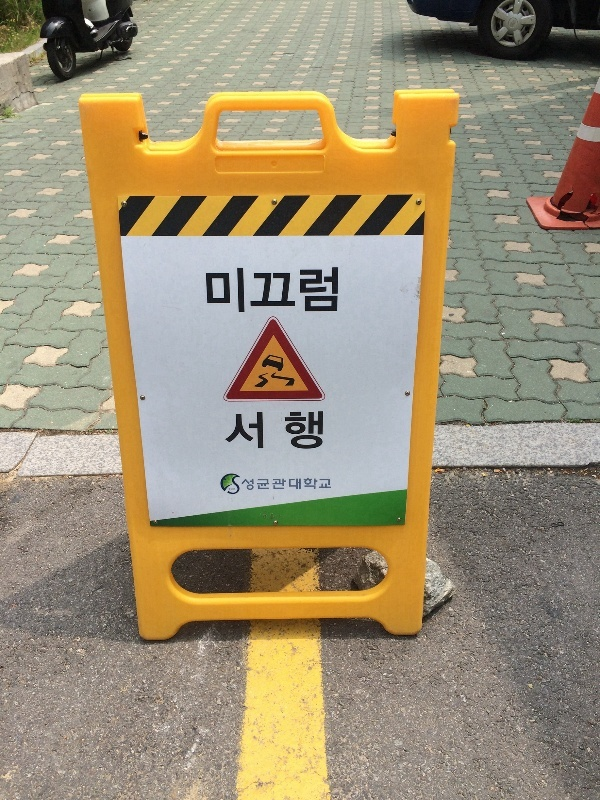text: (209, 262, 224, 329), (225, 262, 240, 329), (241, 262, 256, 329), (257, 262, 272, 329), (273, 262, 288, 329), (289, 262, 304, 329), (305, 262, 320, 329), (321, 262, 336, 329), (225, 403, 240, 459), (241, 403, 256, 459), (257, 403, 272, 459), (273, 403, 288, 459), (289, 403, 304, 459), (305, 403, 320, 459), (197, 262, 208, 329), (337, 262, 348, 329), (241, 469, 256, 507), (257, 469, 272, 507), (273, 469, 288, 507), (289, 469, 304, 507), (305, 469, 320, 507), (321, 469, 335, 507), (321, 403, 328, 459), (223, 403, 224, 459)
